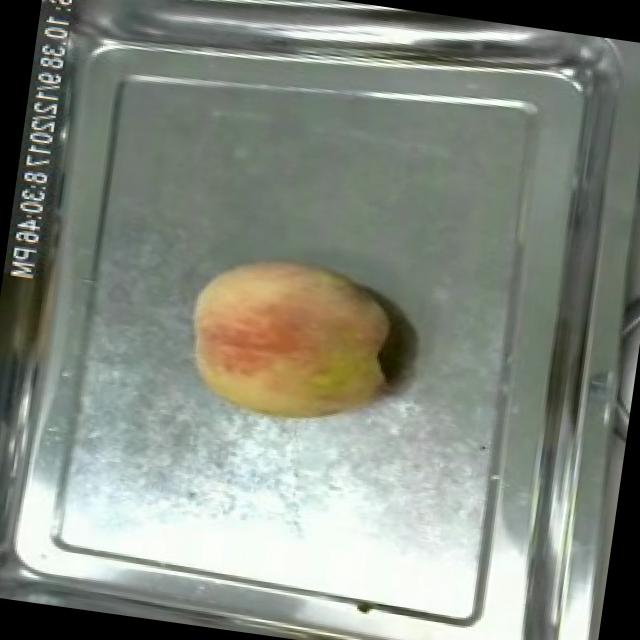Fruit: (170, 238, 408, 442)
